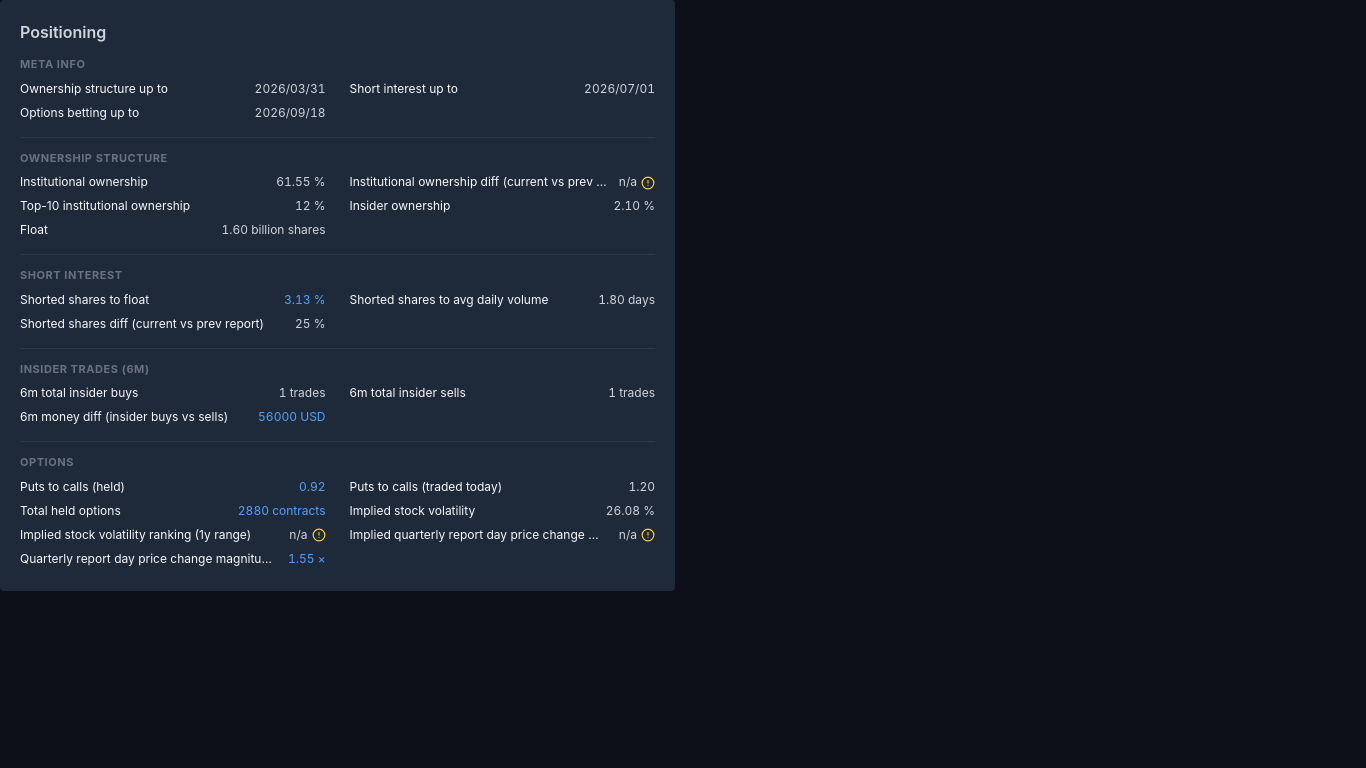
Test: AltDimensions — positioning v2 › shows run notes beside their own field and drops the card button
# The field's own mark opens a modal with exactly this run's reason.
Click the button with test id "alt-field-notes-implied_report_move_pct". click: (648, 535)
box: top-left (641, 528), bottom-right (655, 542)
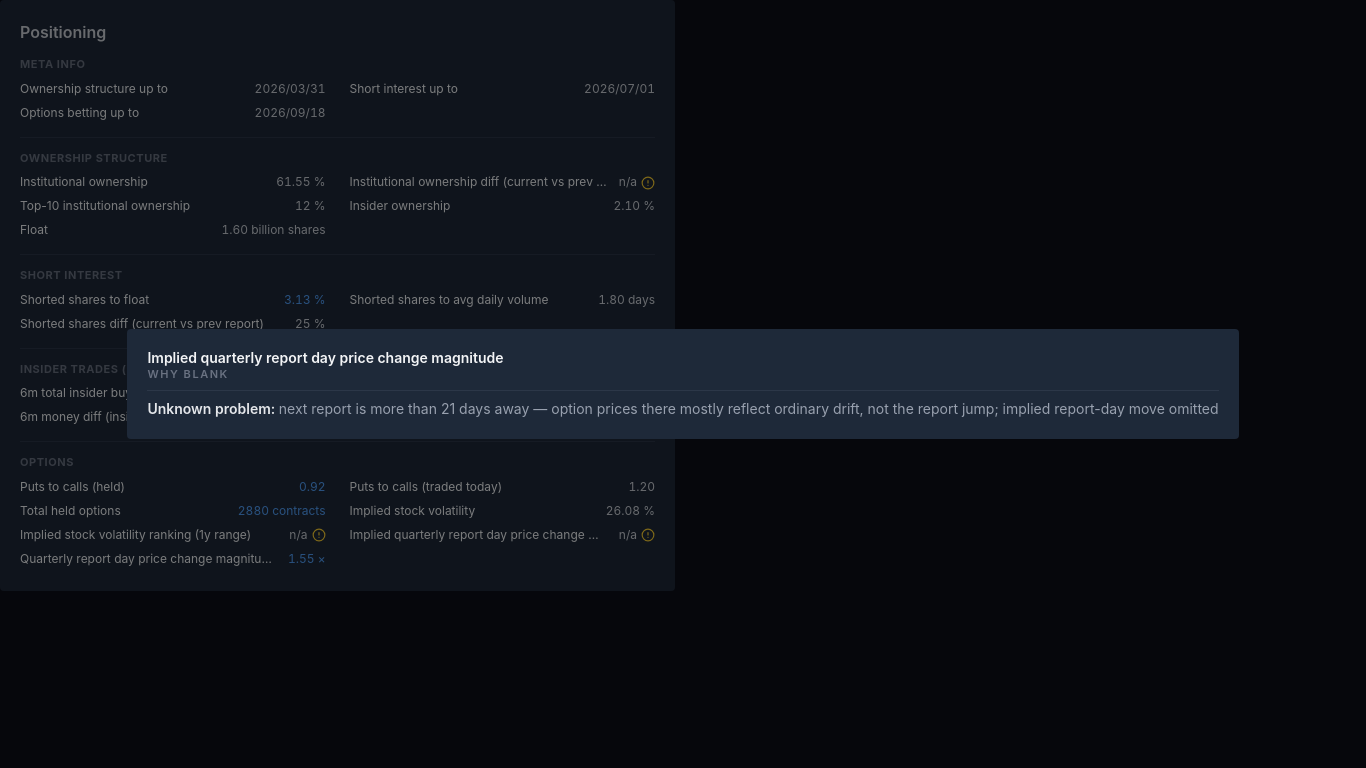
Expected: the list with test id "alt-field-notes-modal" shows "more than 21 days away", top-left (279, 400), bottom-right (1219, 417)
